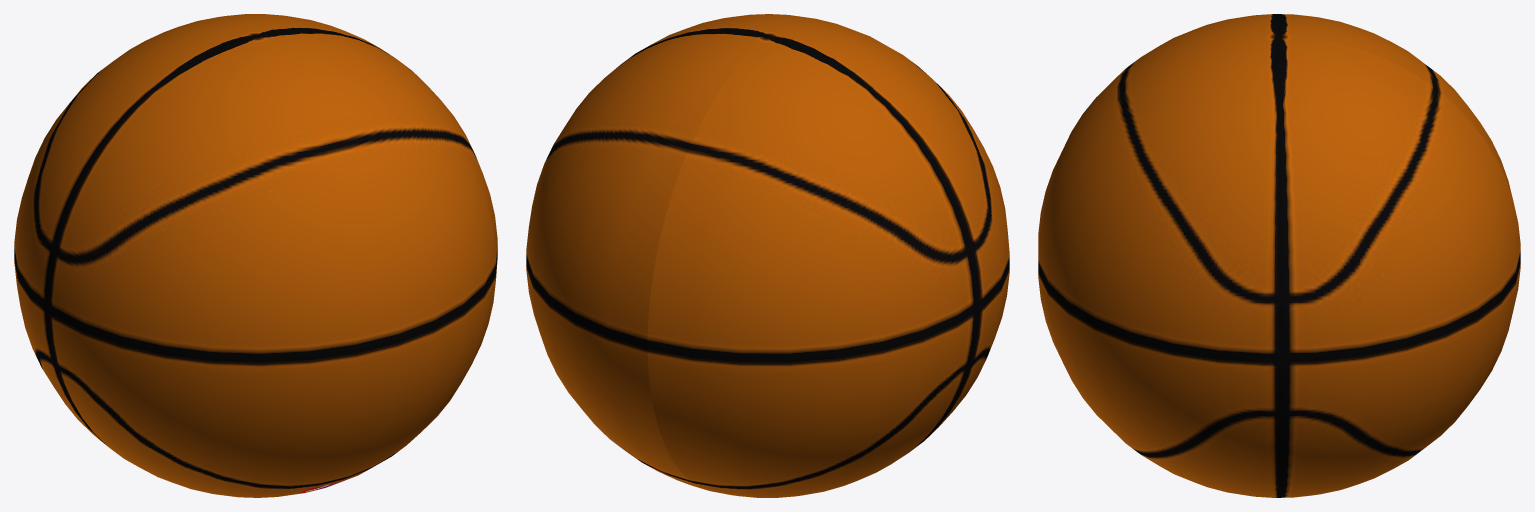
Rendered from ball.glb.
3 renders of one model, left to right at view 1: azimuth 30°, elevation 25°; view 2: azimuth 150°, elevation 25°; view 3: azimuth 270°, elevation 25°, orthographic.
Visible parts, largest first — view 1: basketball; view 2: basketball; view 3: basketball.
Part boxes in pixels (bbox=[...]): basketball: bbox=[14, 14, 497, 497]; basketball: bbox=[526, 14, 1009, 497]; basketball: bbox=[1038, 14, 1520, 497].
Size of the model in its own units: 23.81 by 23.87 by 23.78.
1 material, 1 textured.
